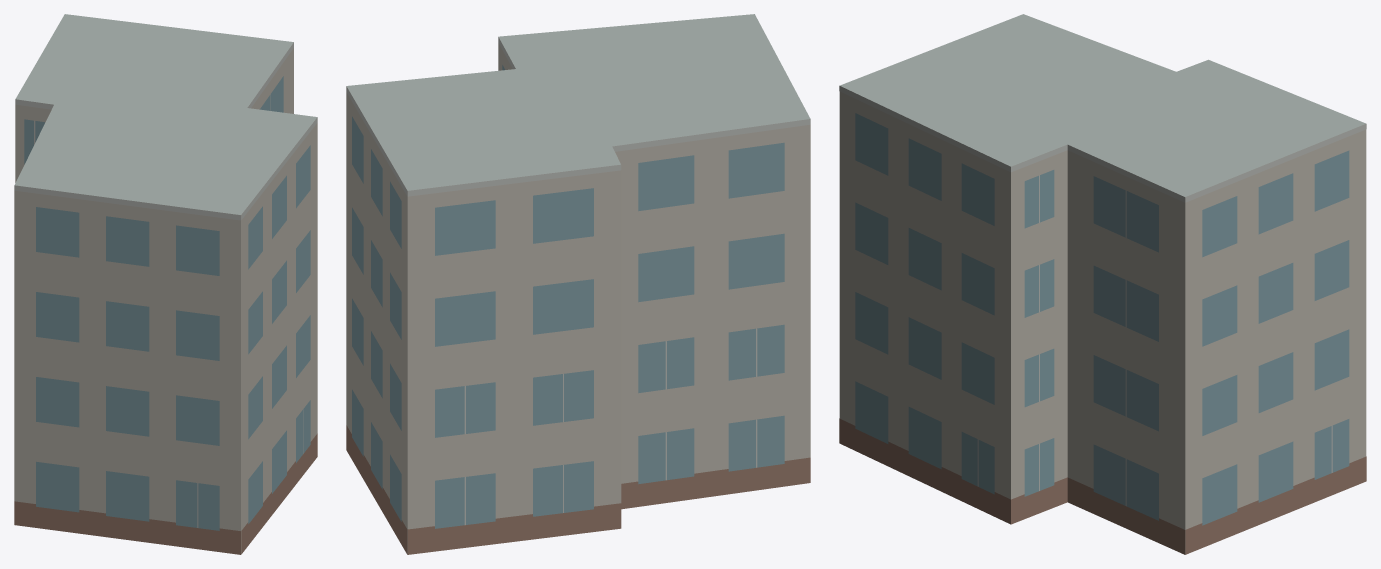
Rendered from survey-upis-33004139.glb.
3 renders of one model, left to right at view 1: azimuth 30°, elevation 25°; view 2: azimuth 150°, elevation 25°; view 3: azimuth 270°, elevation 25°, orthographic. The views are drawn at different scales.
Visible parts, largest first — view 1: survey-upis-33004139.tmp; view 2: survey-upis-33004139.tmp; view 3: survey-upis-33004139.tmp.
Boxes of the visible parts, x1=… form: survey-upis-33004139.tmp: x1=14, y1=14, x2=317, y2=554; survey-upis-33004139.tmp: x1=346, y1=14, x2=810, y2=554; survey-upis-33004139.tmp: x1=839, y1=14, x2=1366, y2=554.
Size of the model in its own units: 16.92 by 15.4 by 20.56.
